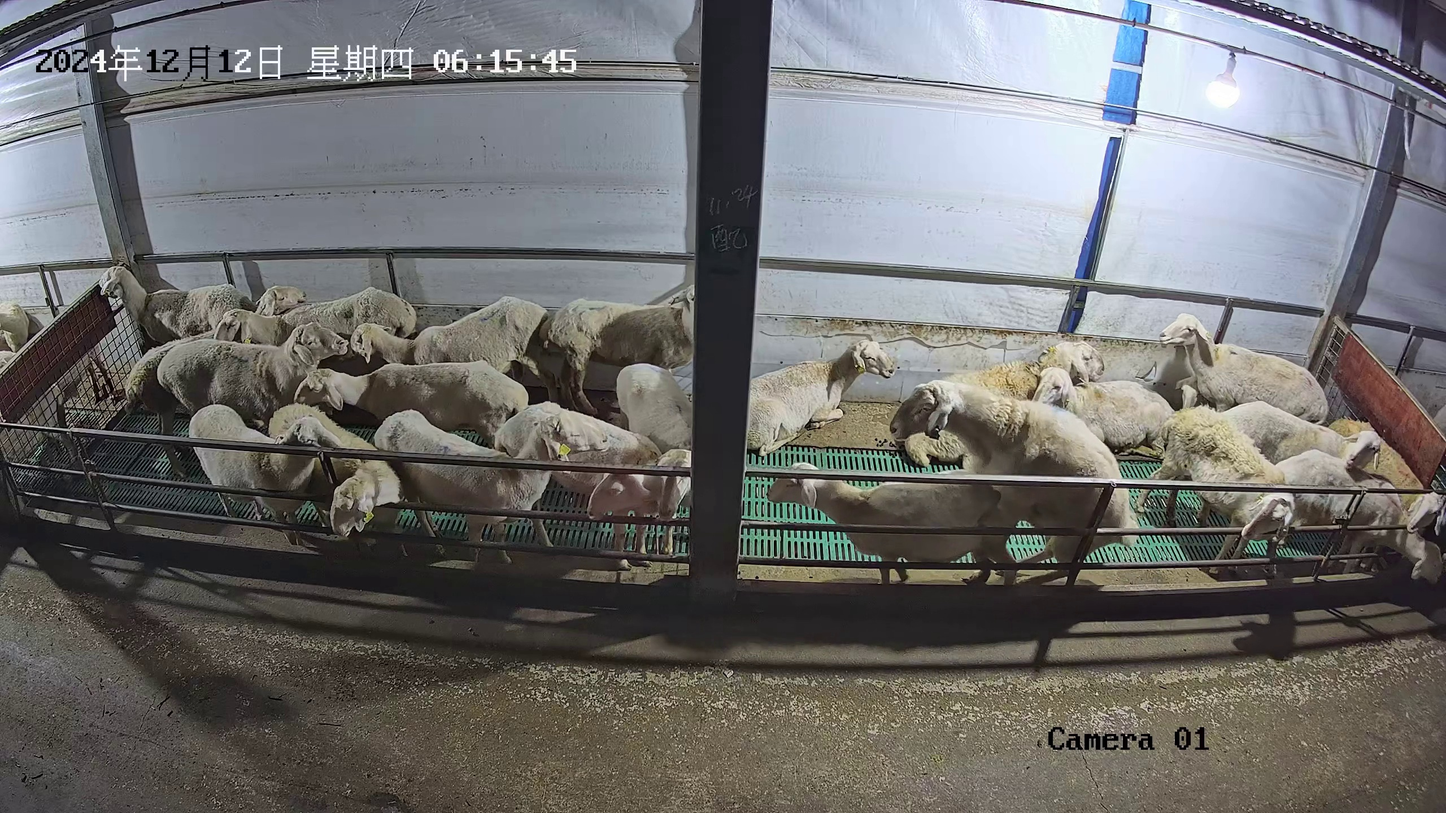Smounting: (757, 376, 1140, 591)
mounted: (763, 459, 1024, 587)
